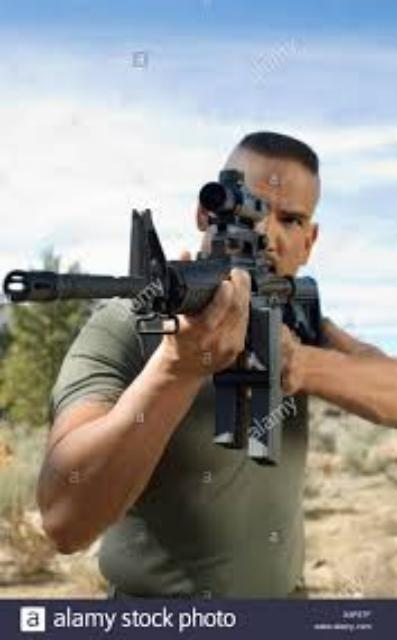other: (37, 125, 396, 601)
